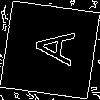A: (25, 25, 75, 66)
